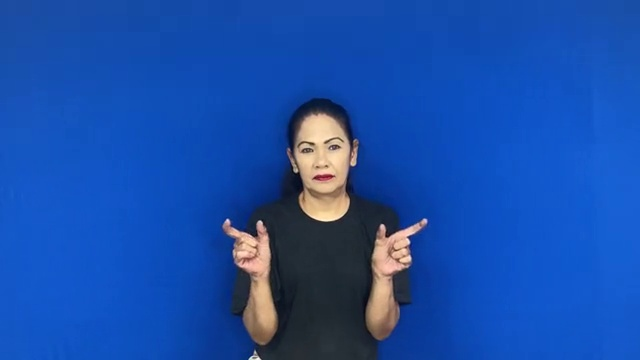crab: (213, 210, 434, 284)
